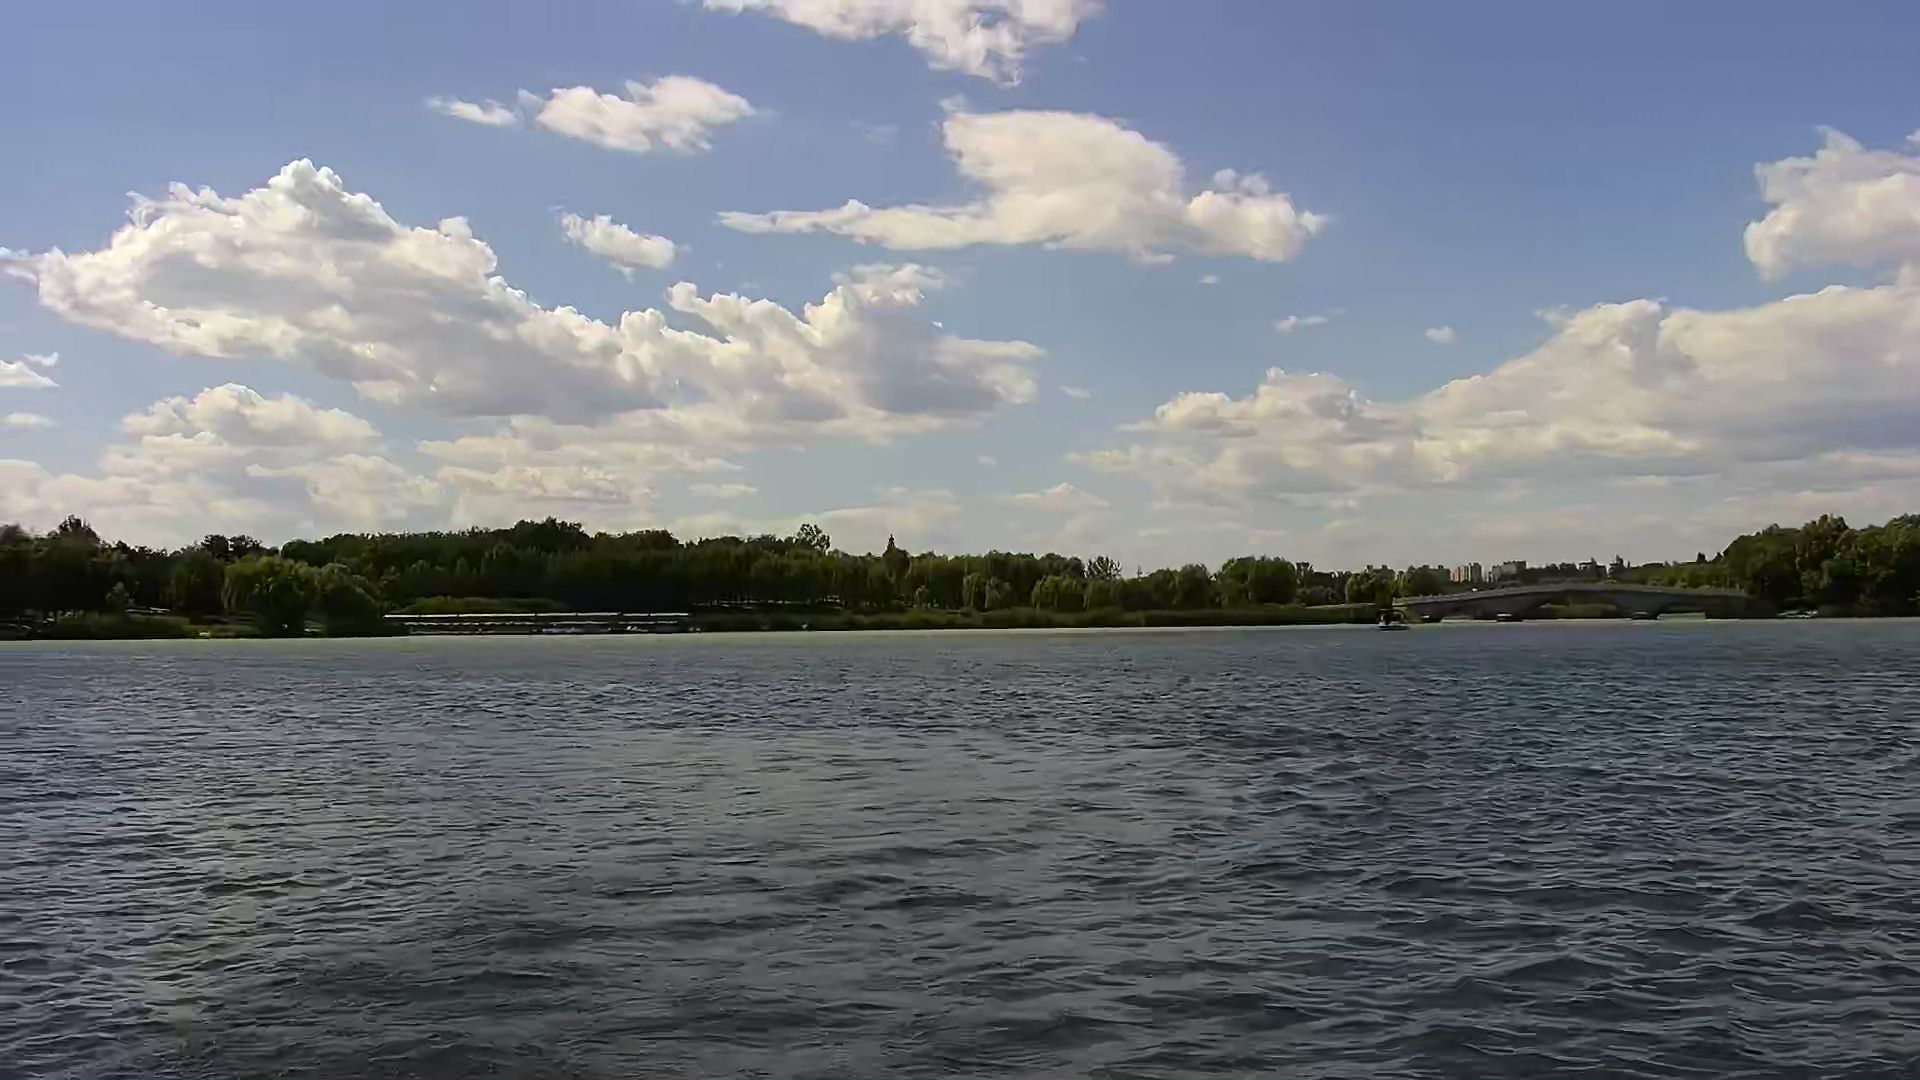boat: (1371, 608, 1416, 632)
bridge: (1396, 585, 1743, 622), (386, 612, 690, 637)
